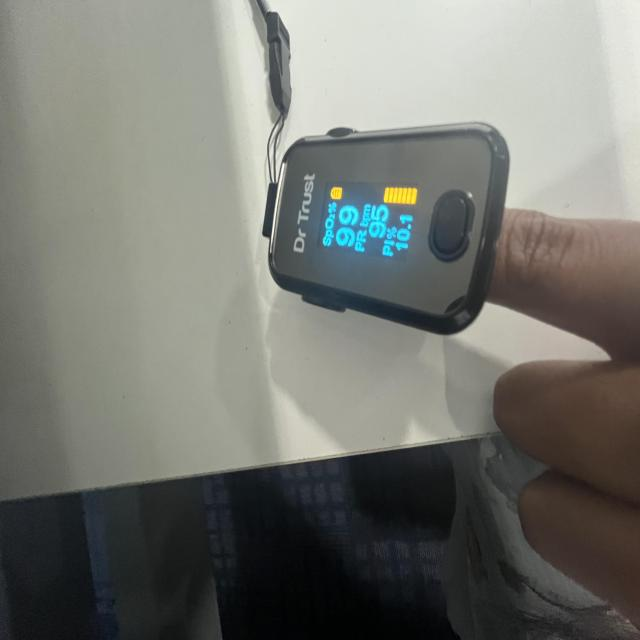spo2: (266, 122, 511, 337)
